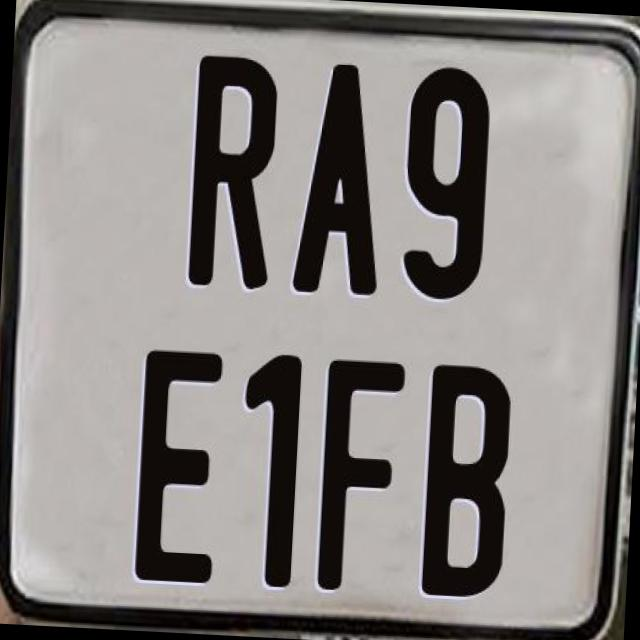1: (234, 348, 302, 586)
9: (400, 61, 492, 296)
A: (291, 59, 395, 298)
B: (419, 360, 512, 597)
E: (132, 344, 230, 580)
F: (316, 356, 412, 593)
R: (186, 56, 284, 297)
